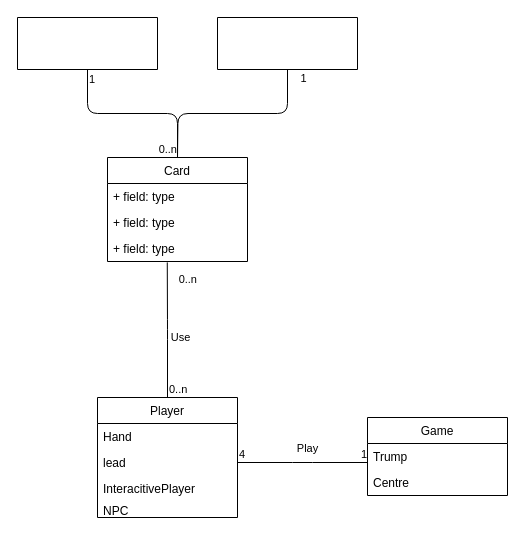
Some shapes in this 525 by 540 pixel diagram are drawn without their labels. Here are the shapes that lost their labels. From the top down, the centre of each, then its label:
point (87, 43): Rank
point (287, 43): Suit
